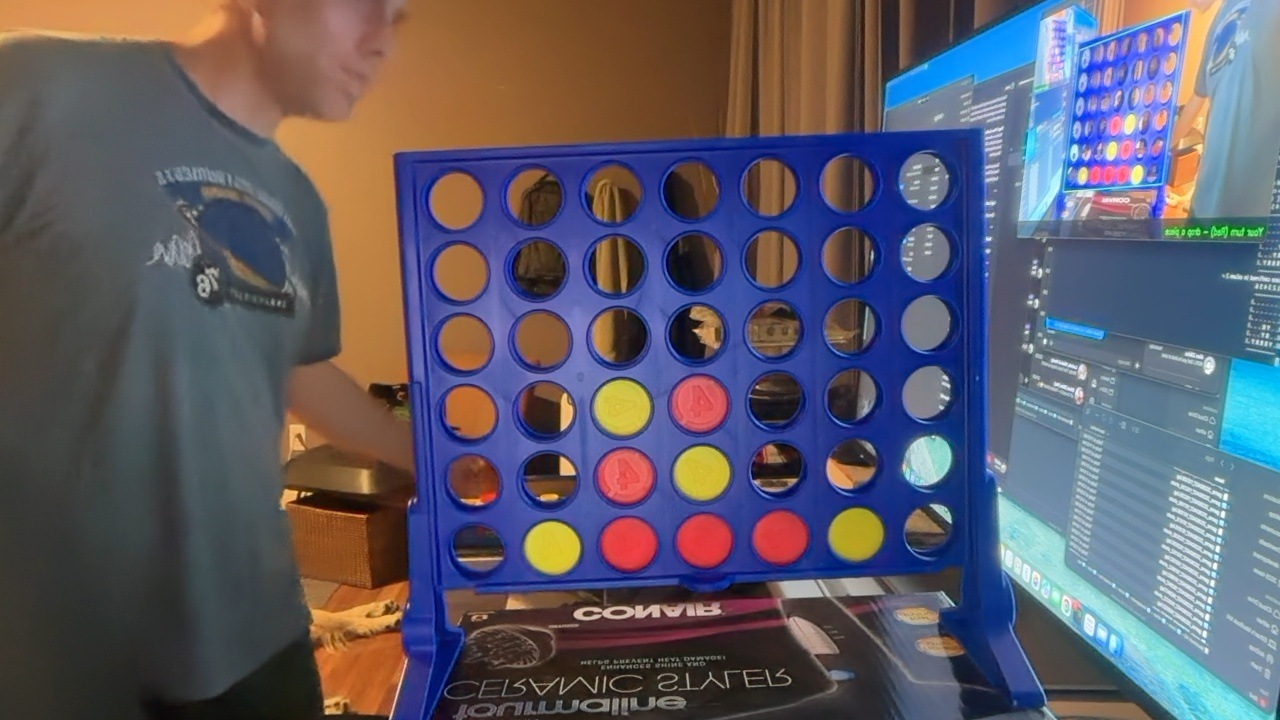red piece: (670, 375, 729, 433), (596, 448, 655, 505), (676, 513, 733, 569), (752, 510, 809, 566), (600, 517, 658, 572)
yellow piece: (593, 379, 652, 437), (673, 445, 731, 501), (524, 521, 582, 575), (828, 508, 884, 562)
